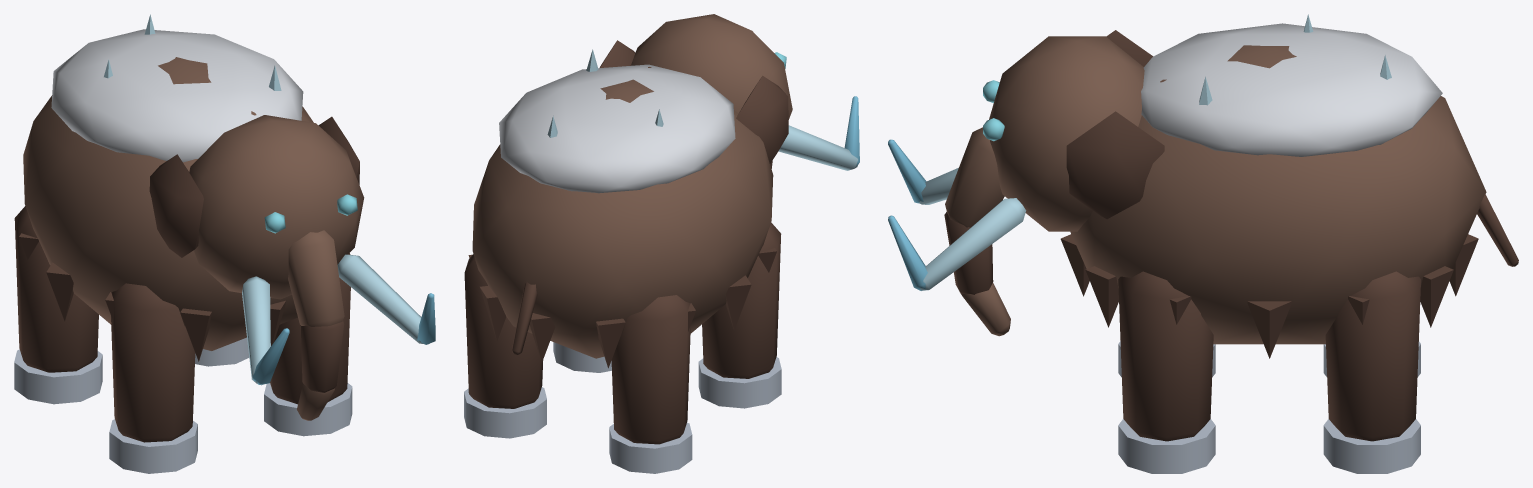
The model's file is e_eis_mammut.glb.
3 renders of one model, left to right at view 1: azimuth 30°, elevation 25°; view 2: azimuth 150°, elevation 25°; view 3: azimuth 270°, elevation 25°, orthographic. The views are drawn at different scales.
Parts seen in each view (by area): view 1: body; view 2: body; view 3: body.
Part boxes in pixels (x1,y1,x2,y2): body: (14,14,435,473); body: (464,14,859,473); body: (888,14,1518,473).
Bounding box in the file's own units: 2.66 × 3.21 × 4.92.
